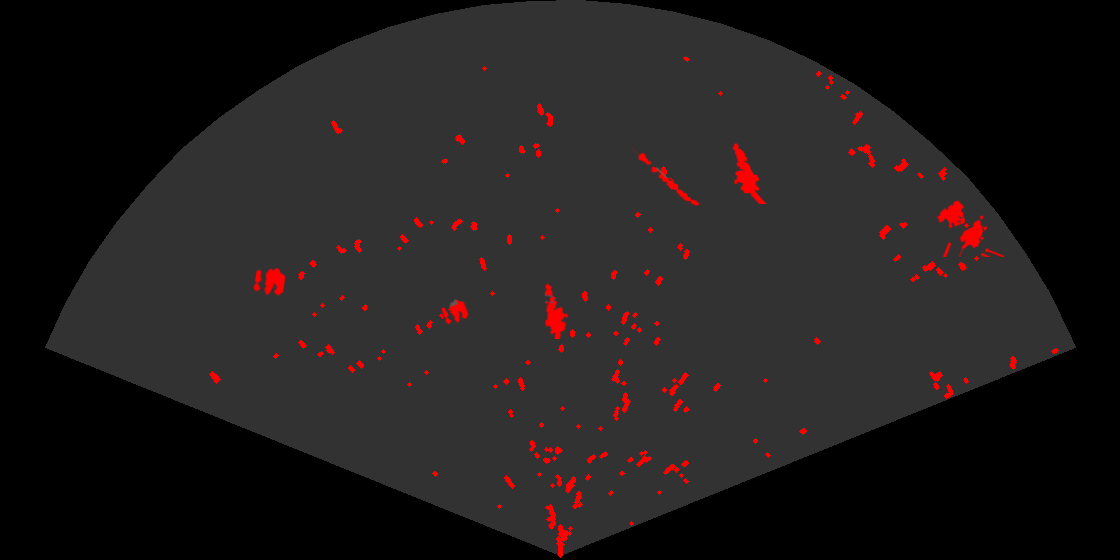ball: (252, 266, 287, 298), (440, 298, 470, 326)
cage: (935, 199, 1004, 257)
chain: (629, 147, 701, 208)
frogman: (731, 142, 768, 204), (543, 282, 570, 339)
